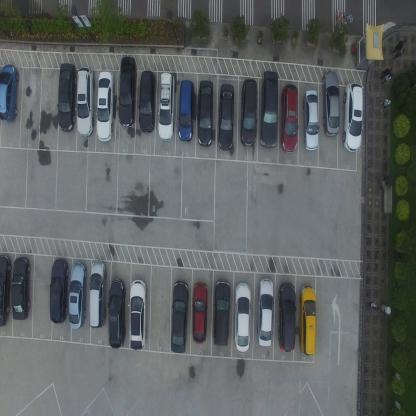car: (342, 80, 363, 152), (170, 279, 189, 354), (238, 77, 258, 148), (260, 70, 278, 148), (96, 69, 115, 142), (128, 278, 147, 351), (57, 62, 77, 131), (107, 277, 126, 349), (299, 284, 317, 358), (68, 260, 87, 330), (49, 257, 69, 323), (88, 260, 107, 329), (11, 255, 31, 320), (76, 66, 94, 138), (233, 280, 251, 352), (280, 83, 298, 154), (321, 70, 340, 137), (213, 279, 232, 346), (157, 72, 175, 142), (278, 280, 295, 353), (119, 56, 136, 127), (196, 81, 214, 148), (0, 63, 20, 122), (218, 82, 235, 150), (258, 277, 274, 348), (138, 70, 156, 132), (302, 88, 319, 152), (192, 282, 209, 344), (178, 79, 194, 142), (0, 253, 11, 327)
